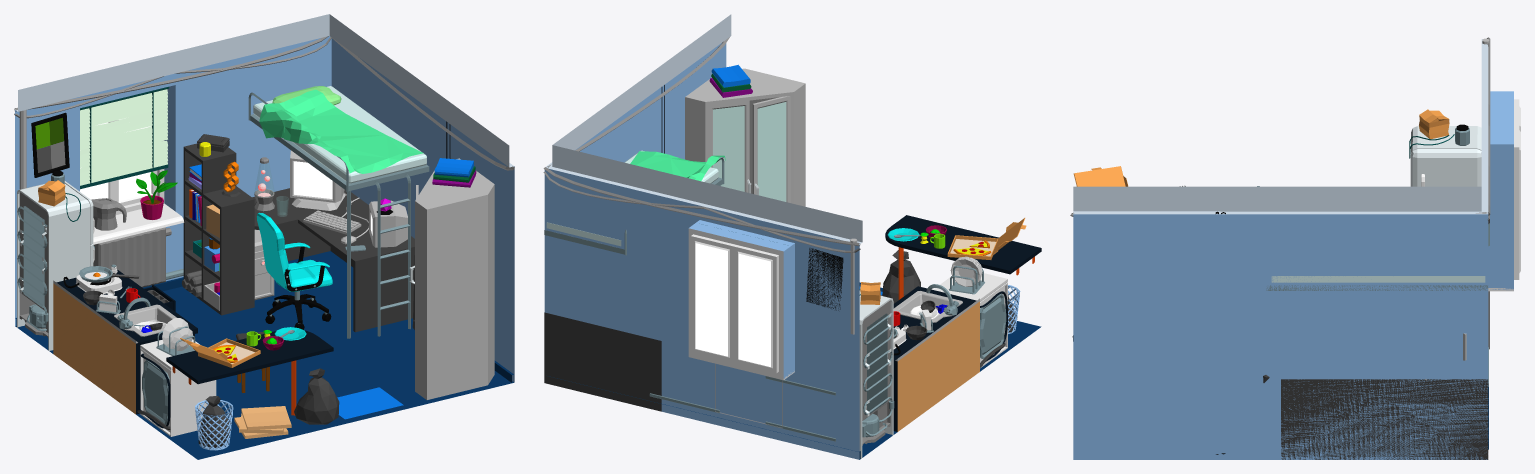
3 renders of one model, left to right at view 1: azimuth 30°, elevation 25°; view 2: azimuth 150°, elevation 25°; view 3: azimuth 270°, elevation 25°, orthographic. The views are drawn at different scales.
Parts seen in each view (by area): view 1: Box010.001; view 2: Box010.001; view 3: Box010.001.
Boxes of the visible parts, left/top/right/bottom form: Box010.001: left=14, top=14, right=514, bottom=459; Box010.001: left=543, top=14, right=1041, bottom=459; Box010.001: left=1070, top=37, right=1520, bottom=459.
Bounding box in the file's own units: 711 × 512 × 760.
Materials: 7 (1 with a texture image).
